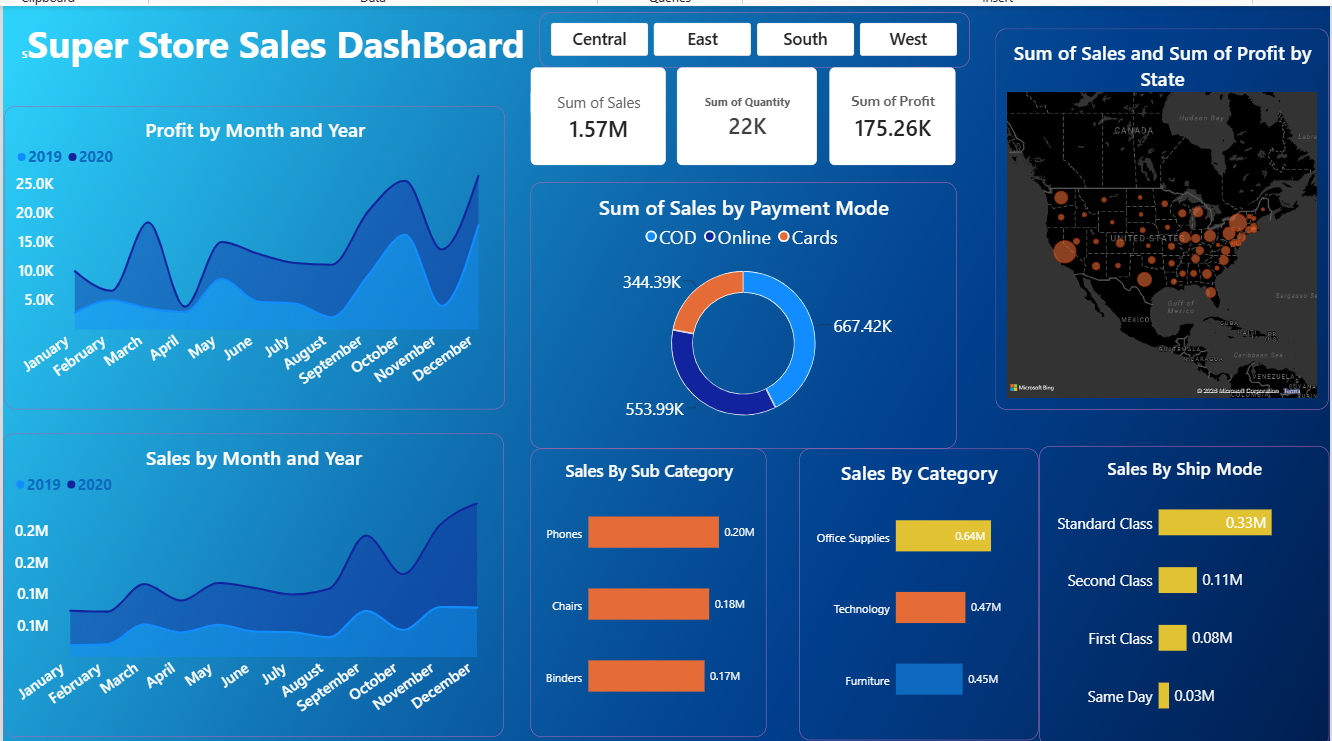

The page's visual inventory and layout, read from the dashboard file:
{"tool":"powerbi","page":{"name":"Page 1","canvas":[1920,1080],"ordinal":0},"visuals":[{"type":"clusteredBarChart","title":"Sales By Category","fields":{"Category":["SuperStore_Sales_Dataset.Category"],"Y":["Sum(SuperStore_Sales_Dataset.Sales)"]},"box":[1153.5,640.6,346.3,422],"z":0},{"type":"clusteredBarChart","title":"Sales By Sub Category","fields":{"Category":["SuperStore_Sales_Dataset.Sub-Category"],"Y":["Sum(SuperStore_Sales_Dataset.Sales)"]},"box":[763.9,640.6,341.9,417.7],"z":1000},{"type":"clusteredBarChart","title":"Sales By Ship Mode","fields":{"Category":["SuperStore_Sales_Dataset.Ship Mode"],"Y":["Sum(SuperStore_Sales_Dataset.Sales)"]},"box":[1499.8,636.3,419.8,435],"z":2000},{"type":"stackedAreaChart","title":" Sales by Month and Year","fields":{"Category":["SuperStore_Sales_Dataset.Order Date.Variation.Date Hierarchy.Month","SuperStore_Sales_Dataset.Order Date.Variation.Date Hierarchy.Day"],"Series":["SuperStore_Sales_Dataset.Order Date.Variation.Date Hierarchy.Year"],"Y":["Sum(SuperStore_Sales_Dataset.Sales)"]},"box":[0,618.9,725,439.3],"z":3000},{"type":"stackedAreaChart","title":"Profit by Month and Year","fields":{"Category":["SuperStore_Sales_Dataset.Order Date.Variation.Date Hierarchy.Month","SuperStore_Sales_Dataset.Order Date.Variation.Date Hierarchy.Day"],"Series":["SuperStore_Sales_Dataset.Order Date.Variation.Date Hierarchy.Year"],"Y":["Sum(SuperStore_Sales_Dataset.Profit)"]},"box":[2.2,145,725,439.3],"z":4000},{"type":"map","fields":{"Category":["SuperStore_Sales_Dataset.State"],"Size":["Sum(SuperStore_Sales_Dataset.Sales)"]},"box":[1437,32.5,482.6,551.9],"z":5000},{"type":"donutChart","fields":{"Category":["SuperStore_Sales_Dataset.Payment Mode"],"Y":["Sum(SuperStore_Sales_Dataset.Sales)"]},"box":[763.9,255.4,616.8,385.2],"z":6000},{"type":"advancedSlicerVisual","fields":{"Values":["SuperStore_Sales_Dataset.Region"]},"box":[776.9,8.7,623.3,80.1],"z":7000},{"type":"textbox","box":[17.3,17.3,746.6,93.1],"z":8000},{"type":"cardVisual","fields":{"Data":["Sum(SuperStore_Sales_Dataset.Profit)"]},"box":[1196.8,88.7,184,142.8],"z":9000},{"type":"cardVisual","fields":{"Data":["Sum(SuperStore_Sales_Dataset.Sales)"]},"box":[763.9,88.7,196.9,142.8],"z":11000},{"type":"cardVisual","fields":{"Data":["Sum(SuperStore_Sales_Dataset.Quantity)"]},"box":[976,88.7,203.4,142.8],"z":12000}]}

Visuals, with their boxes on the page's 1920x1080 design canvas (x1, y1, x2, y2). These are canvas units, not pixel positions in the 1332x741 screenshot, which may show the page scaled, cropped or inside an application window:
"Sales By Category" clusteredBarChart: region(1154, 641, 1500, 1063)
"Sales By Sub Category" clusteredBarChart: region(764, 641, 1106, 1058)
"Sales By Ship Mode" clusteredBarChart: region(1500, 636, 1920, 1071)
" Sales by Month and Year" stackedAreaChart: region(0, 619, 725, 1058)
"Profit by Month and Year" stackedAreaChart: region(2, 145, 727, 584)
map - SuperStore_Sales_Dataset.State x Sum(SuperStore_Sales_Dataset.Sales): region(1437, 32, 1920, 584)
donutChart - SuperStore_Sales_Dataset.Payment Mode x Sum(SuperStore_Sales_Dataset.Sales): region(764, 255, 1381, 641)
advancedSlicerVisual - SuperStore_Sales_Dataset.Region: region(777, 9, 1400, 89)
textbox: region(17, 17, 764, 110)
cardVisual - Sum(SuperStore_Sales_Dataset.Profit): region(1197, 89, 1381, 232)
cardVisual - Sum(SuperStore_Sales_Dataset.Sales): region(764, 89, 961, 232)
cardVisual - Sum(SuperStore_Sales_Dataset.Quantity): region(976, 89, 1179, 232)
